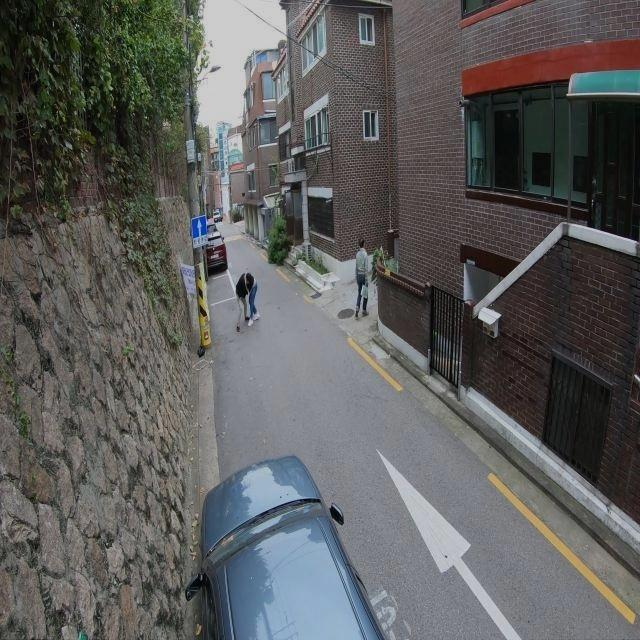fight: (233, 268, 260, 331)
non-fight: (352, 237, 372, 321)
